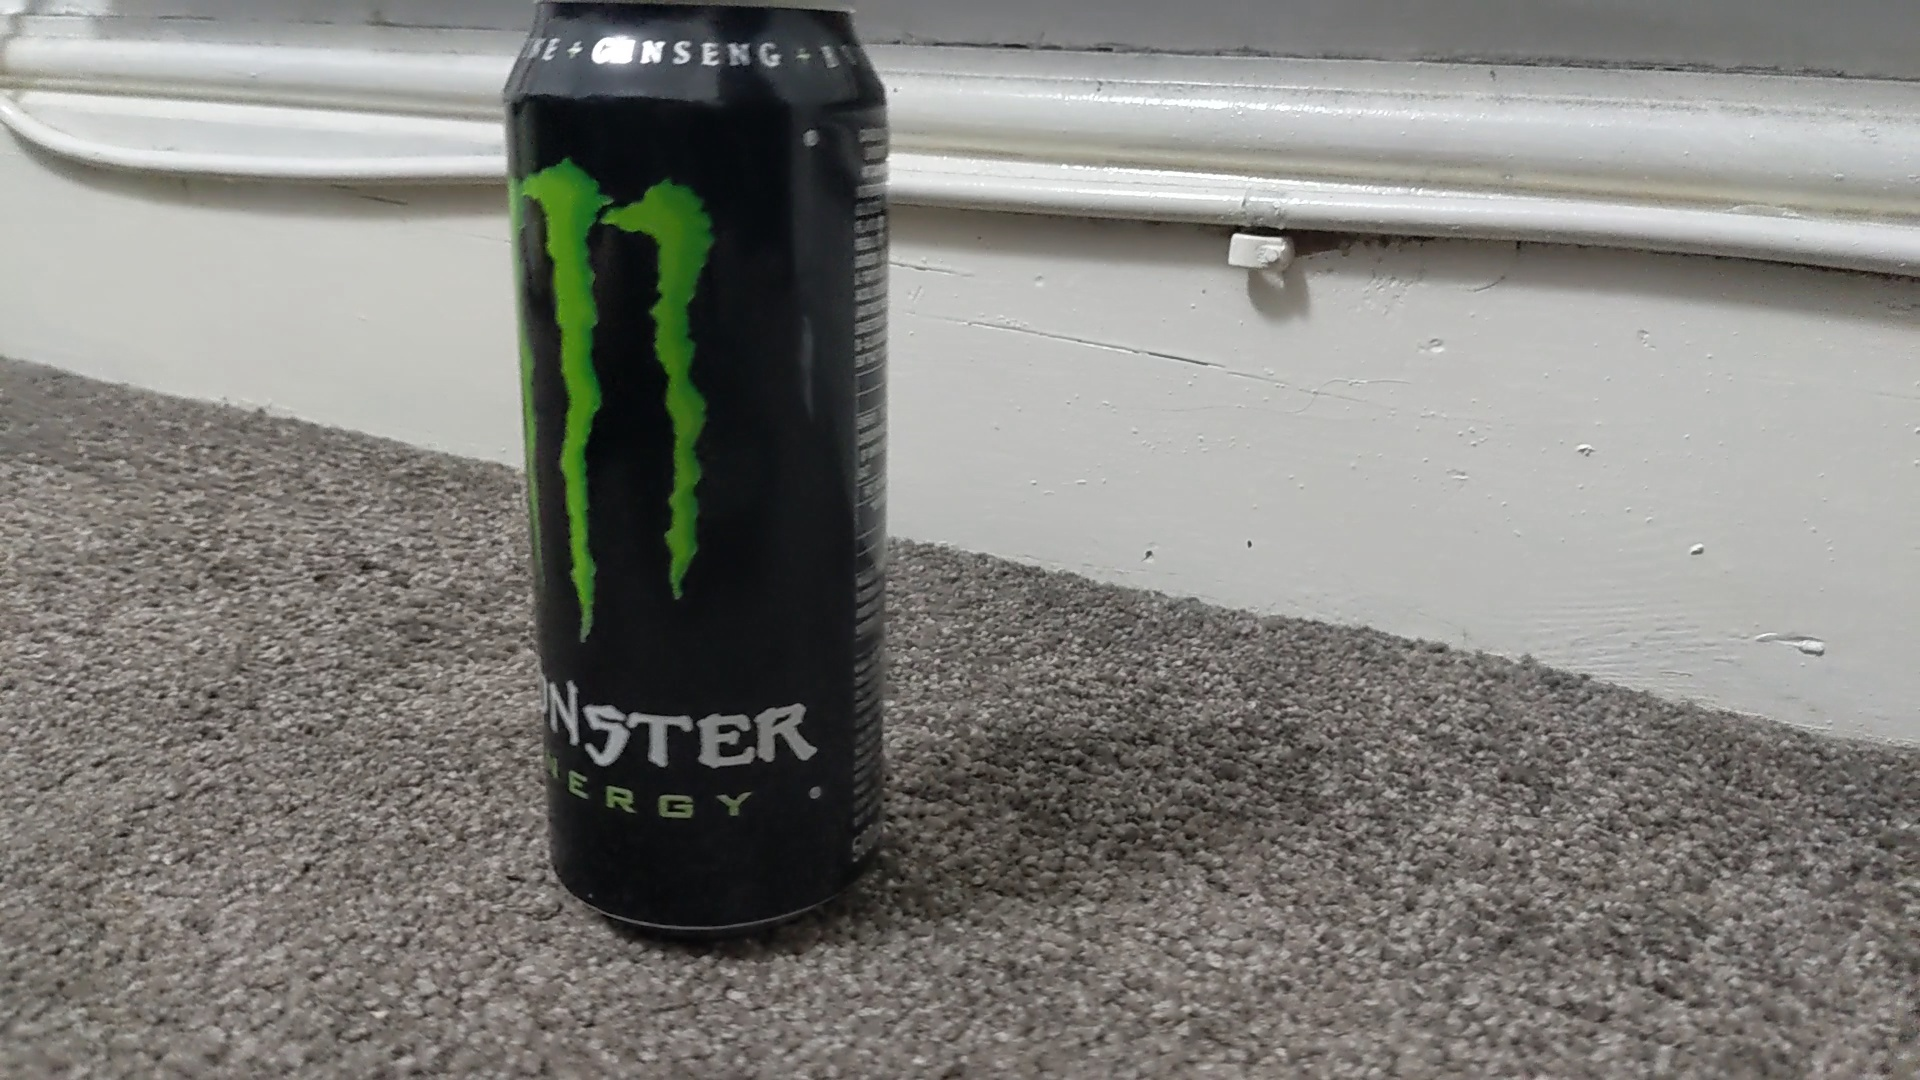monster-original: (501, 1, 889, 938)
